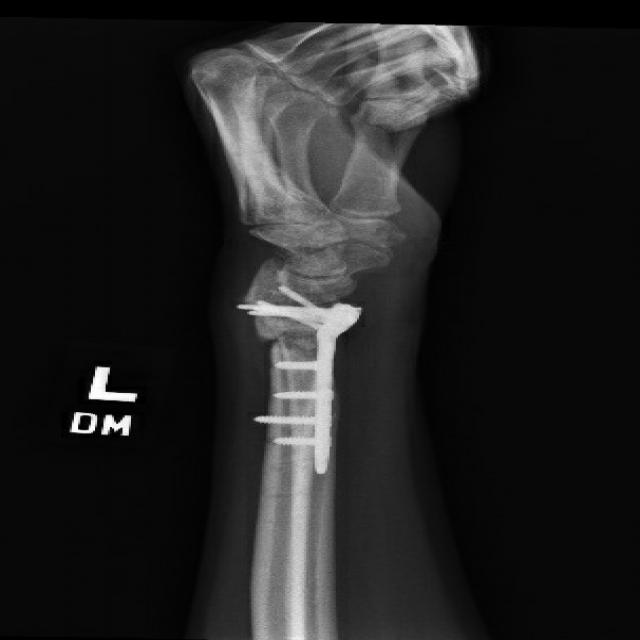x-ray: (239, 282, 412, 480)
